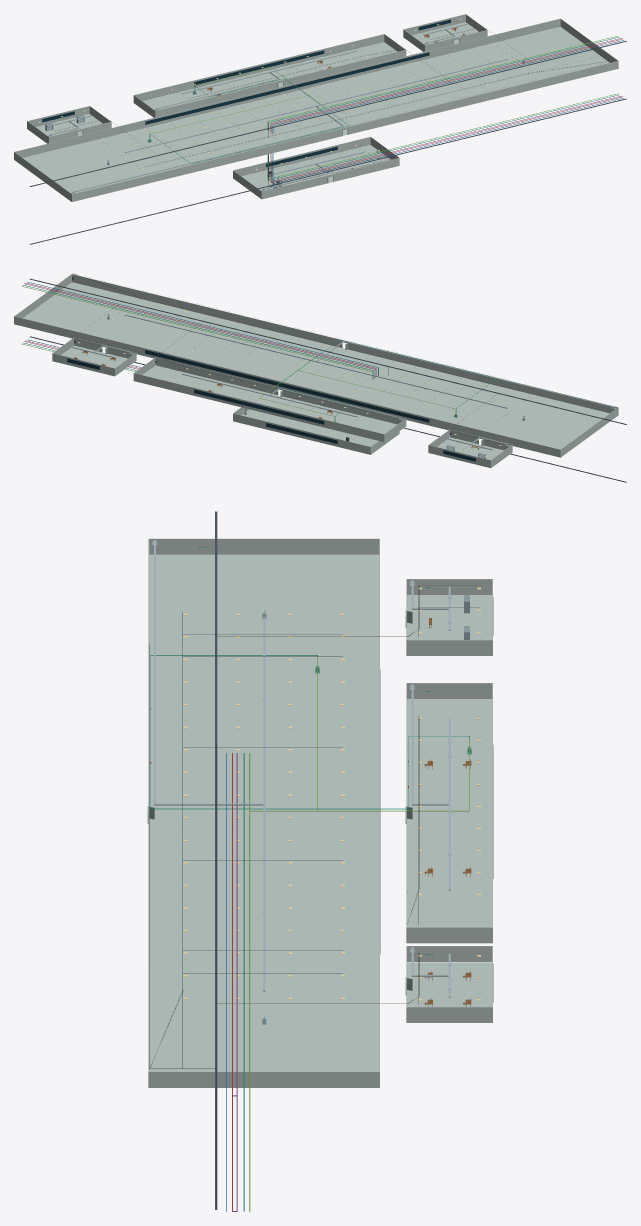
The model's file is FAB1.glb.
3 renders of one model, top to bottom at view 1: azimuth 30°, elevation 25°; view 2: azimuth 150°, elevation 25°; view 3: azimuth 270°, elevation 25°, orthographic. The views are drawn at different scales.
Visible parts, largest first — view 1: V4_FAB1_R01_FLOOR_ZONE, V4_FAB1_R01_WALLS, V4_FAB1_R02_WALLS, V4_FAB1_R02_FLOOR_ZONE, V4_FAB1_R05_WALLS, V4_FAB1_R05_FLOOR_ZONE, V4_FAB1_R01_AHU, V4_FAB1_R03_WALLS, V4_FAB1_R04_WALLS, V4_FAB1_R01_ROOM_GLAZING, V4_FAB1_TRAY0, V4_FAB1_TRAY1 (+10 smaller); view 2: V4_FAB1_R01_FLOOR_ZONE, V4_FAB1_R01_WALLS, V4_FAB1_R02_WALLS, V4_FAB1_R02_FLOOR_ZONE, V4_FAB1_R01_AHU, V4_FAB1_R03_WALLS, V4_FAB1_R04_WALLS, V4_FAB1_R05_WALLS, V4_FAB1_R01_ROOM_GLAZING, V4_FAB1_R05_FLOOR_ZONE, V4_FAB1_TRAY1, V4_FAB1_R04_FLOOR_ZONE (+9 smaller); view 3: V4_FAB1_R01_FLOOR_ZONE, V4_FAB1_R02_FLOOR_ZONE, V4_FAB1_R01_WALLS, V4_FAB1_R04_FLOOR_ZONE, V4_FAB1_R03_FLOOR_ZONE, V4_FAB1_R02_WALLS, V4_FAB1_R03_WALLS, V4_FAB1_R04_WALLS, V4_FAB1_R01_AHU, V4_FAB1_TRAY1, V4_FAB1_R01_LIGHT_DROPS, V4_FAB1_R02_AHU.
Part boxes in pixels (x1=…): V4_FAB1_R01_FLOOR_ZONE: x1=23, y1=26, x2=609, y2=192; V4_FAB1_R01_WALLS: x1=14, y1=18, x2=618, y2=201; V4_FAB1_R02_WALLS: x1=133, y1=34, x2=406, y2=117; V4_FAB1_R02_FLOOR_ZONE: x1=142, y1=42, x2=397, y2=109; V4_FAB1_R05_WALLS: x1=233, y1=136, x2=399, y2=199; V4_FAB1_R05_FLOOR_ZONE: x1=242, y1=145, x2=390, y2=190; V4_FAB1_R01_AHU: x1=71, y1=59, x2=507, y2=193; V4_FAB1_R03_WALLS: x1=27, y1=106, x2=111, y2=143; V4_FAB1_R04_WALLS: x1=403, y1=14, x2=487, y2=51; V4_FAB1_R01_ROOM_GLAZING: x1=145, y1=52, x2=429, y2=124; V4_FAB1_TRAY0: x1=29, y1=98, x2=626, y2=244; V4_FAB1_TRAY1: x1=29, y1=41, x2=626, y2=186; V4_FAB1_R01_FLOOR_ZONE: x1=23, y1=282, x2=609, y2=449; V4_FAB1_R01_WALLS: x1=14, y1=274, x2=618, y2=457; V4_FAB1_R02_WALLS: x1=133, y1=357, x2=406, y2=442; V4_FAB1_R02_FLOOR_ZONE: x1=142, y1=365, x2=397, y2=433; V4_FAB1_R01_AHU: x1=124, y1=314, x2=616, y2=410; V4_FAB1_R03_WALLS: x1=428, y1=429, x2=512, y2=467; V4_FAB1_R04_WALLS: x1=52, y1=337, x2=136, y2=376; V4_FAB1_R05_WALLS: x1=233, y1=407, x2=399, y2=454; V4_FAB1_R01_ROOM_GLAZING: x1=145, y1=350, x2=429, y2=422; V4_FAB1_R05_FLOOR_ZONE: x1=242, y1=409, x2=378, y2=446; V4_FAB1_TRAY1: x1=29, y1=278, x2=626, y2=424; V4_FAB1_R04_FLOOR_ZONE: x1=61, y1=345, x2=127, y2=368; V4_FAB1_R01_FLOOR_ZONE: x1=149, y1=554, x2=379, y2=1071; V4_FAB1_R02_FLOOR_ZONE: x1=407, y1=699, x2=492, y2=927; V4_FAB1_R01_WALLS: x1=148, y1=538, x2=379, y2=1087; V4_FAB1_R04_FLOOR_ZONE: x1=407, y1=962, x2=492, y2=1006; V4_FAB1_R03_FLOOR_ZONE: x1=407, y1=595, x2=492, y2=639; V4_FAB1_R02_WALLS: x1=406, y1=683, x2=492, y2=943; V4_FAB1_R03_WALLS: x1=406, y1=579, x2=492, y2=655; V4_FAB1_R04_WALLS: x1=406, y1=946, x2=492, y2=1022; V4_FAB1_R01_AHU: x1=152, y1=540, x2=266, y2=991; V4_FAB1_TRAY1: x1=215, y1=511, x2=217, y2=1094; V4_FAB1_R01_LIGHT_DROPS: x1=182, y1=612, x2=342, y2=1068; V4_FAB1_R02_AHU: x1=410, y1=684, x2=451, y2=890.
Bounding box in the file's own units: 238 × 26.26 × 59.64.
